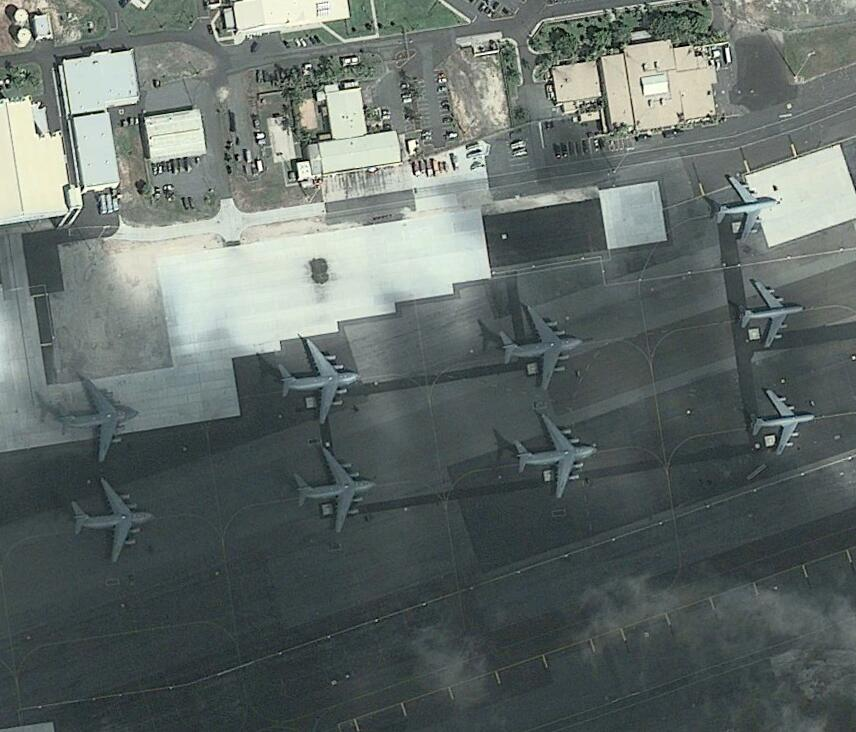A14: (713, 173, 784, 242), (739, 279, 809, 348), (752, 387, 817, 456)
A3: (499, 304, 590, 392), (57, 374, 141, 466), (69, 479, 158, 565), (279, 339, 363, 427), (293, 448, 379, 531), (514, 414, 599, 497)
